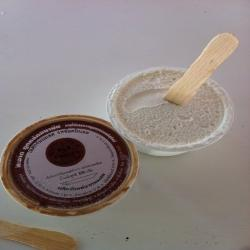icecream: (100, 50, 240, 164)
